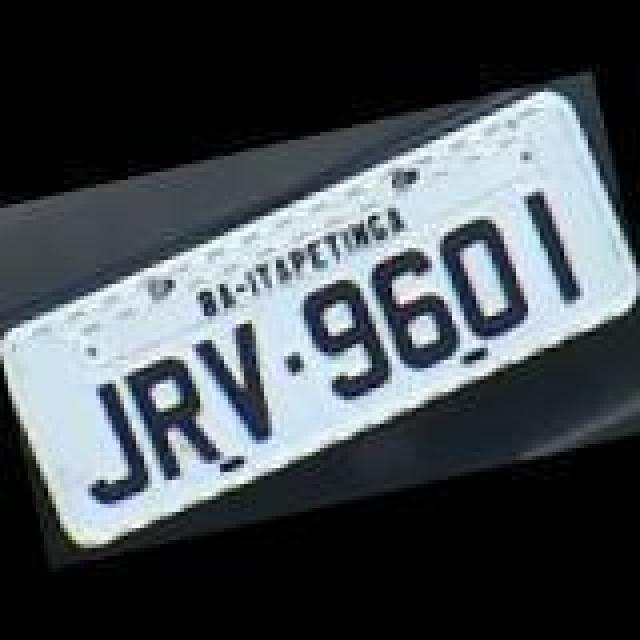1: (516, 178, 588, 310)
6: (362, 238, 470, 378)
9: (288, 272, 392, 408)
J: (60, 370, 164, 510)
O: (434, 212, 534, 348)
R: (122, 348, 222, 484)
V: (192, 310, 288, 458)
